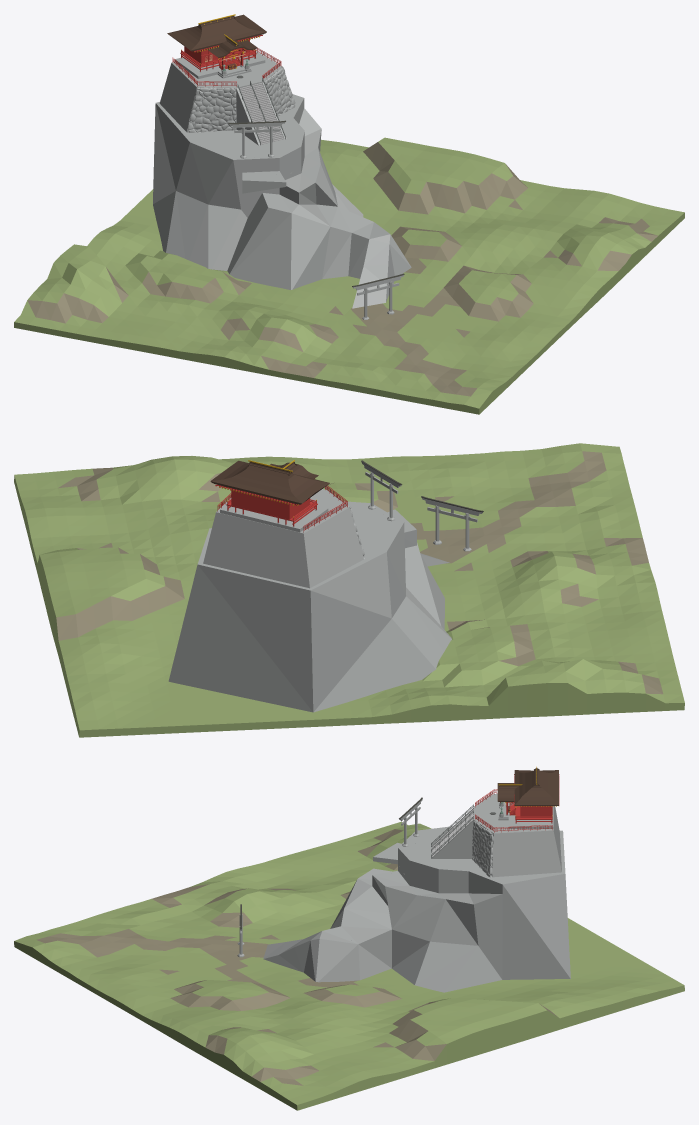
Rendered from 02level_new.fbx.
3 views of the same model, one above another, from view 1: azimuth 30°, elevation 25°; view 2: azimuth 150°, elevation 25°; view 3: azimuth 270°, elevation 25° (orthographic). The views are drawn at different scales.
Visible parts, largest first — view 1: Plane, StoneMoutain, 02_Musashi_Mitake, StoneWall, TopGround, Stairs, Torii.001, Torii, StairsGround; view 2: Plane, StoneMoutain, TopGround, 02_Musashi_Mitake, Torii.001, Torii, Railing; view 3: Plane, StoneMoutain, TopGround, 02_Musashi_Mitake, StairsGround, StoneWall.
Boxes of the visible parts, bbox=[...] form: Plane: bbox=[14, 137, 684, 414]; StoneMoutain: bbox=[153, 94, 411, 308]; 02_Musashi_Mitake: bbox=[167, 14, 266, 78]; StoneWall: bbox=[186, 67, 295, 132]; TopGround: bbox=[159, 51, 282, 131]; Stairs: bbox=[240, 83, 283, 144]; Torii.001: bbox=[352, 273, 404, 319]; Torii: bbox=[228, 120, 285, 158]; StairsGround: bbox=[236, 81, 286, 145]; Plane: bbox=[14, 443, 684, 737]; StoneMoutain: bbox=[168, 501, 451, 712]; TopGround: bbox=[203, 489, 363, 588]; 02_Musashi_Mitake: bbox=[210, 460, 329, 532]; Torii.001: bbox=[421, 496, 483, 551]; Torii: bbox=[361, 460, 402, 521]; Railing: bbox=[217, 485, 347, 532]; Plane: bbox=[14, 821, 684, 1110]; StoneMoutain: bbox=[263, 826, 570, 992]; TopGround: bbox=[474, 794, 561, 877]; 02_Musashi_Mitake: bbox=[497, 766, 559, 828]; StairsGround: bbox=[431, 808, 473, 858]; StoneWall: bbox=[472, 794, 493, 877].
Bounding box in the file's own units: 23629 × 6957 × 23629.
